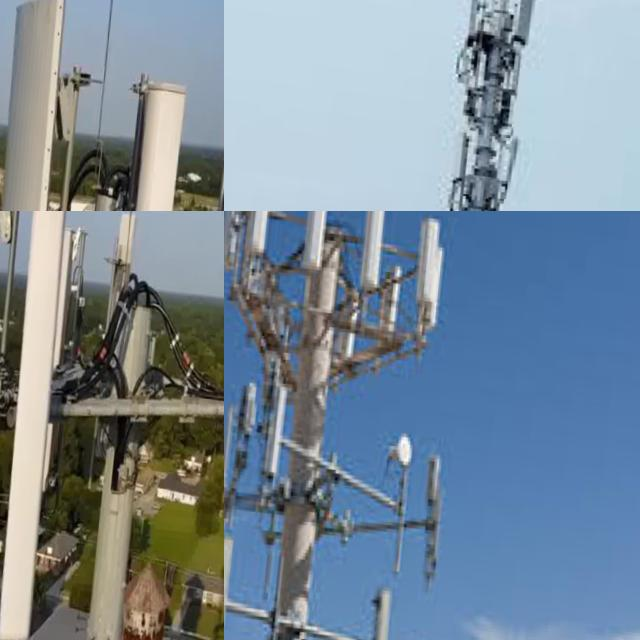GSM Antenna: (0, 0, 90, 211), (39, 219, 90, 513), (95, 58, 191, 211), (102, 211, 146, 386), (421, 449, 457, 583), (408, 211, 447, 307), (263, 372, 299, 474), (365, 572, 406, 640), (359, 211, 393, 289), (297, 211, 338, 270), (224, 527, 244, 640), (445, 124, 480, 184), (503, 0, 542, 51), (248, 211, 279, 261), (224, 211, 250, 269), (504, 130, 528, 186), (467, 0, 485, 34)
Microwave Antenna: (393, 426, 419, 468)
